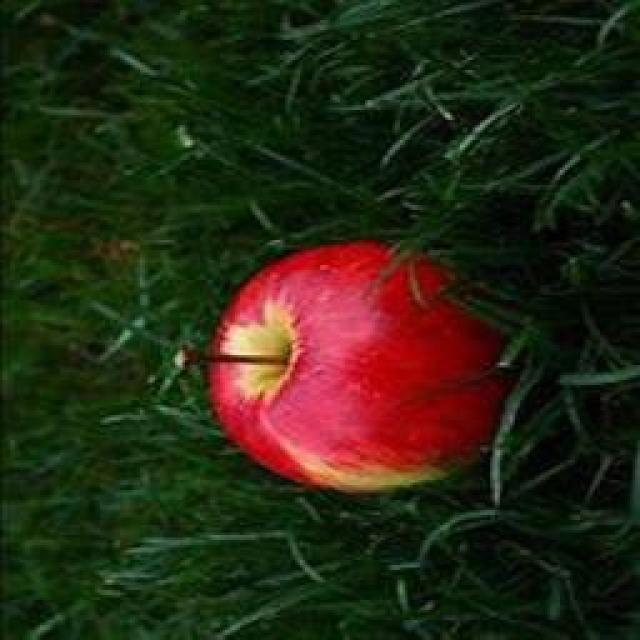Apple: (209, 241, 508, 492)
